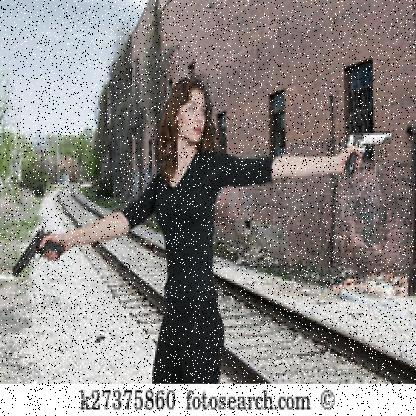pistol: (9, 227, 67, 283), (344, 131, 395, 174)
